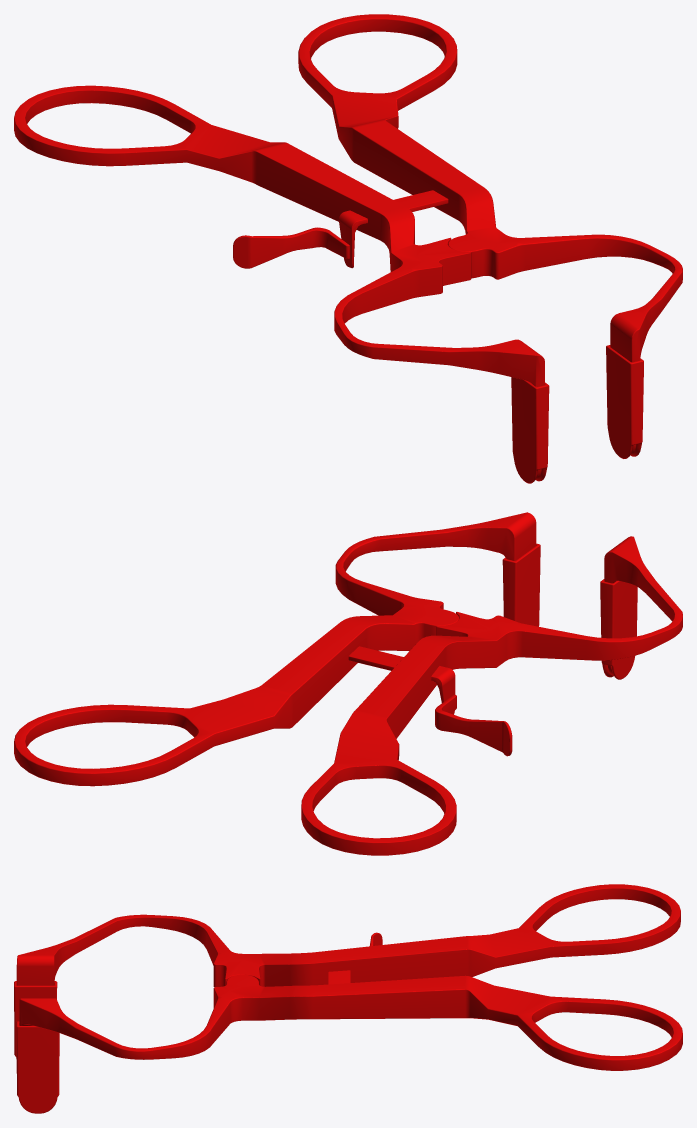
The model's file is Medical_instrument_4.fbx.
The picture shows the model from 3 angles, top to bottom: view 1: azimuth 30°, elevation 25°; view 2: azimuth 150°, elevation 25°; view 3: azimuth 270°, elevation 25°; orthographic projection. The views are drawn at different scales.
Parts seen in each view (by area): view 1: L34:pCube276; view 2: L34:pCube276; view 3: L34:pCube276.
Boxes of the visible parts, x1=… form: L34:pCube276: x1=14, y1=14, x2=682, y2=483; L34:pCube276: x1=14, y1=512, x2=682, y2=855; L34:pCube276: x1=14, y1=884, x2=682, y2=1113.
Bounding box in the file's own units: 15.95 × 5.39 × 25.64.
